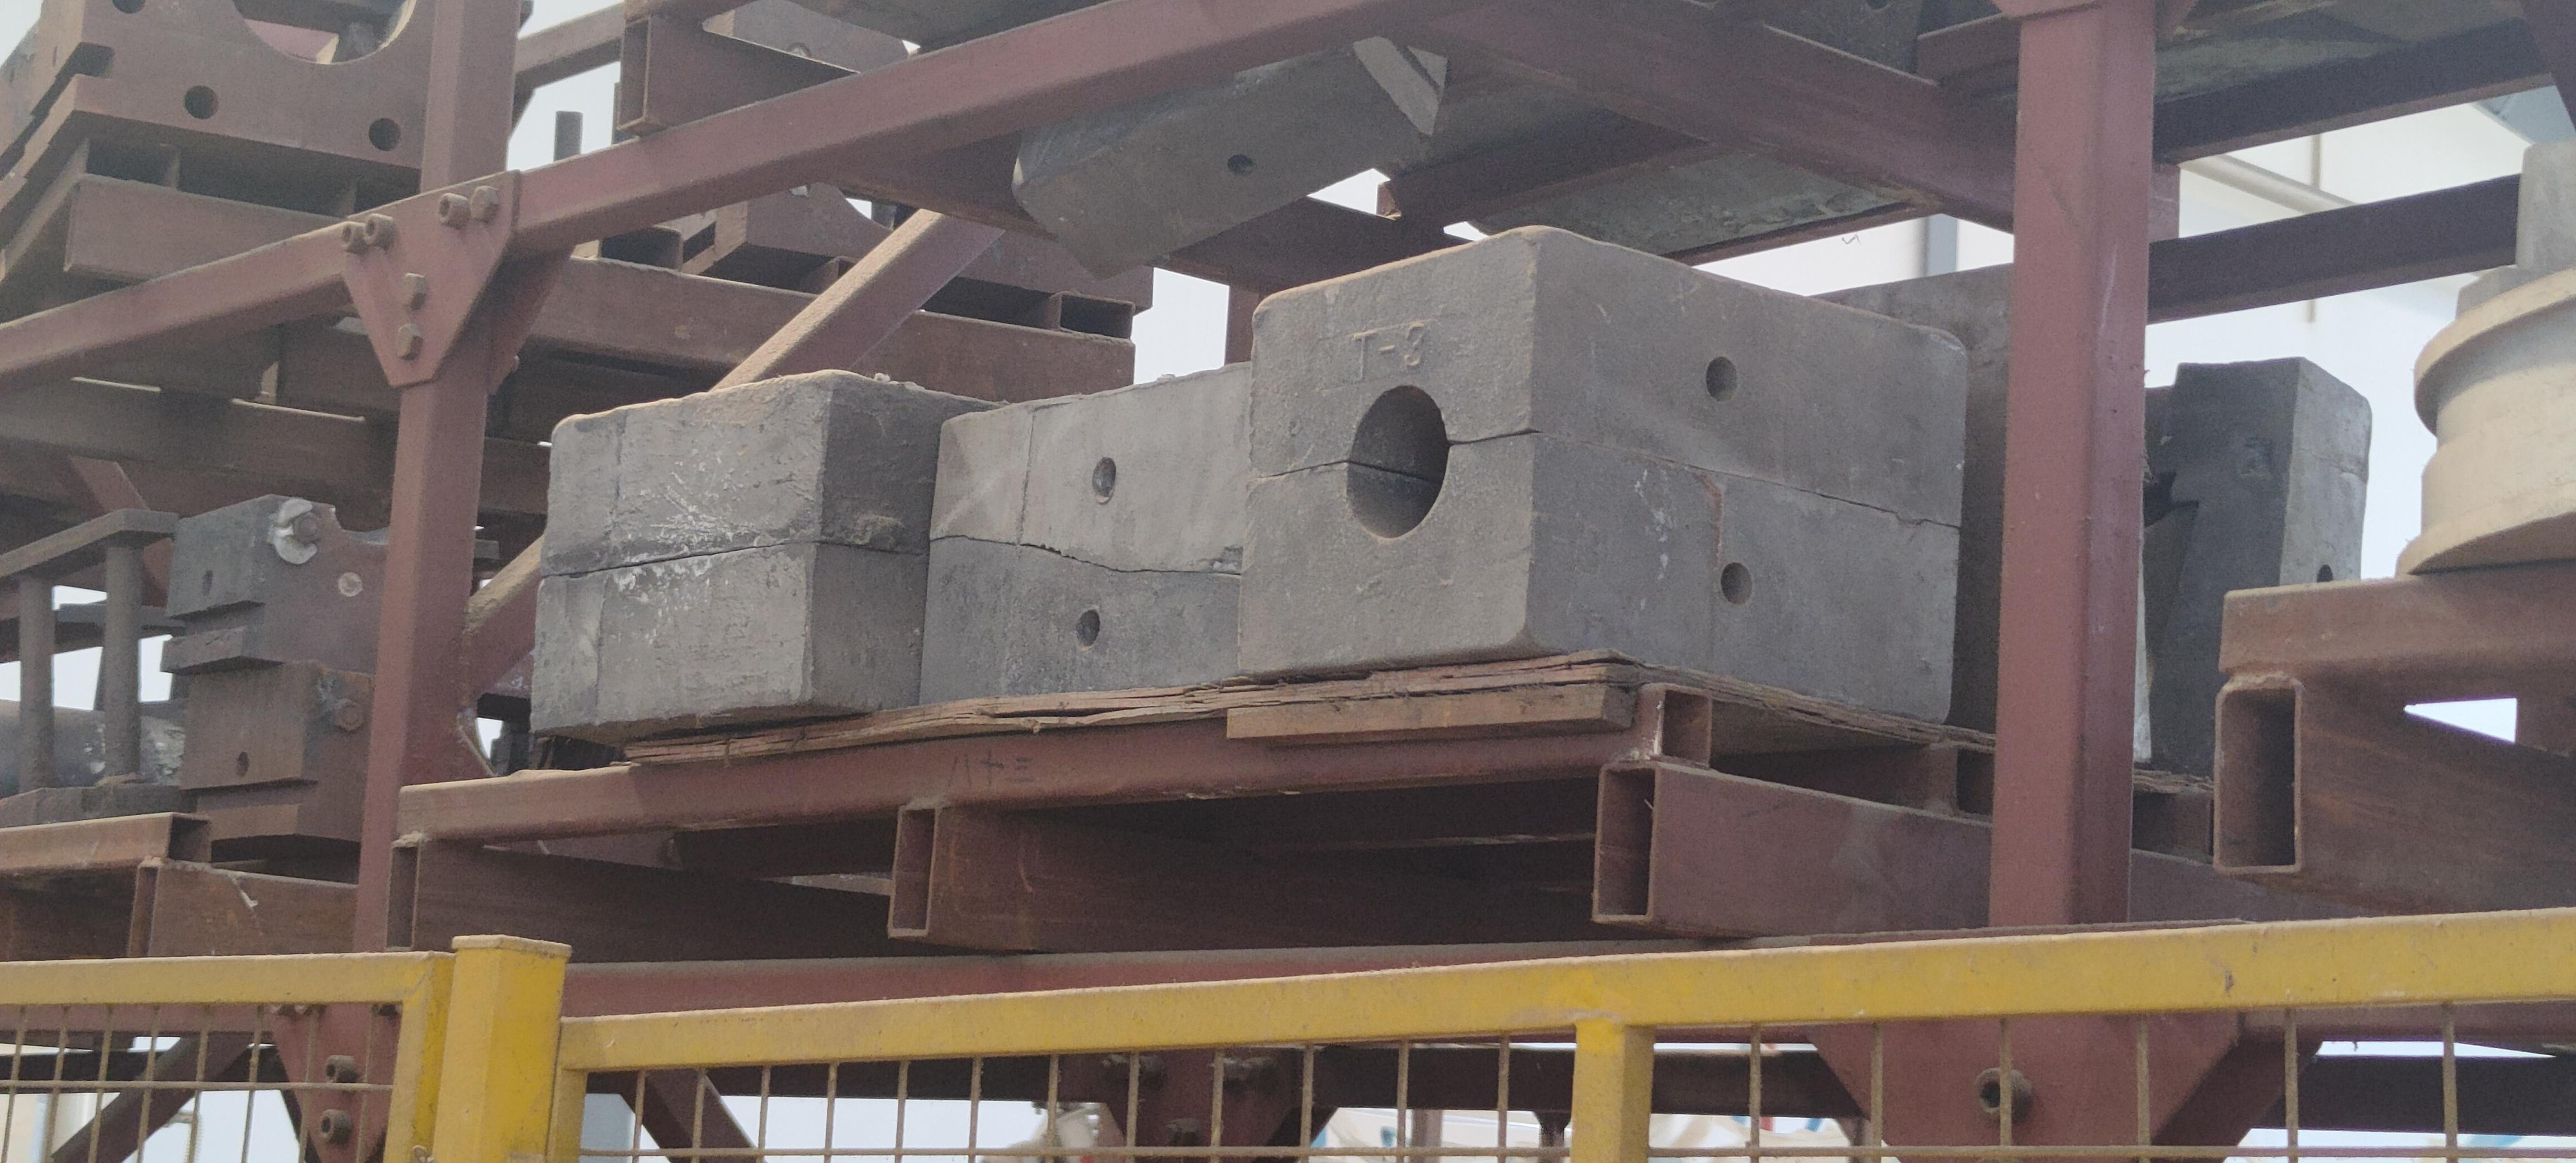pouring hole: (1341, 379, 1449, 544)
